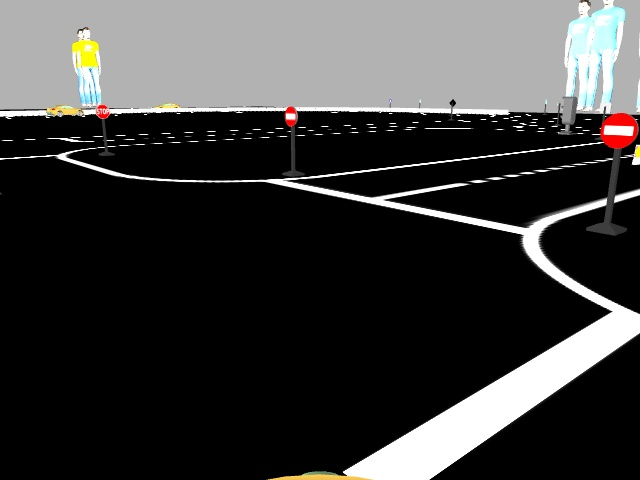NoEntry: (602, 116, 638, 145), (280, 104, 296, 127)
Stop: (94, 104, 110, 120)
